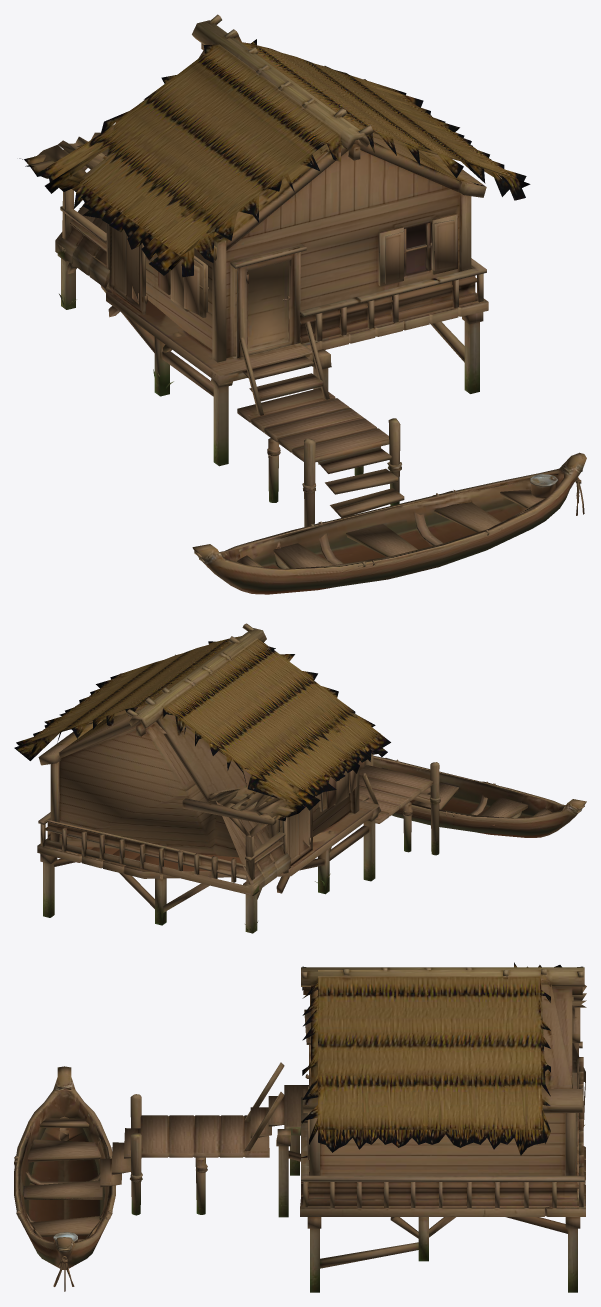
Rendered from selected.glb.
The picture shows the model from 3 angles, top to bottom: view 1: azimuth 30°, elevation 25°; view 2: azimuth 150°, elevation 25°; view 3: azimuth 270°, elevation 25°; orthographic projection. The views are drawn at different scales.
Visible parts, largest first — view 1: tripo_node_b320c122-fe3f-4c82-9b7f-bdcdb5d78312; view 2: tripo_node_b320c122-fe3f-4c82-9b7f-bdcdb5d78312; view 3: tripo_node_b320c122-fe3f-4c82-9b7f-bdcdb5d78312.
Boxes of the visible parts, box(x1,y1,x2,y2) form: tripo_node_b320c122-fe3f-4c82-9b7f-bdcdb5d78312: box(19, 14, 586, 594); tripo_node_b320c122-fe3f-4c82-9b7f-bdcdb5d78312: box(14, 623, 586, 933); tripo_node_b320c122-fe3f-4c82-9b7f-bdcdb5d78312: box(14, 962, 586, 1292).
Bounding box in the file's own units: 0.8848 × 0.5762 × 0.998.
1 material, 1 textured.
